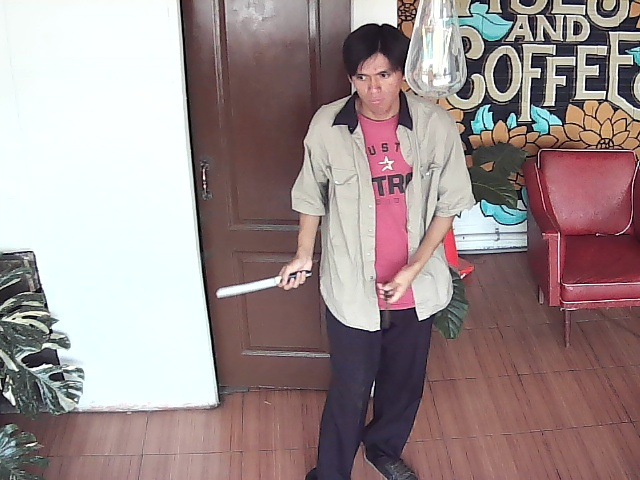cuchillo: (212, 257, 320, 307)
